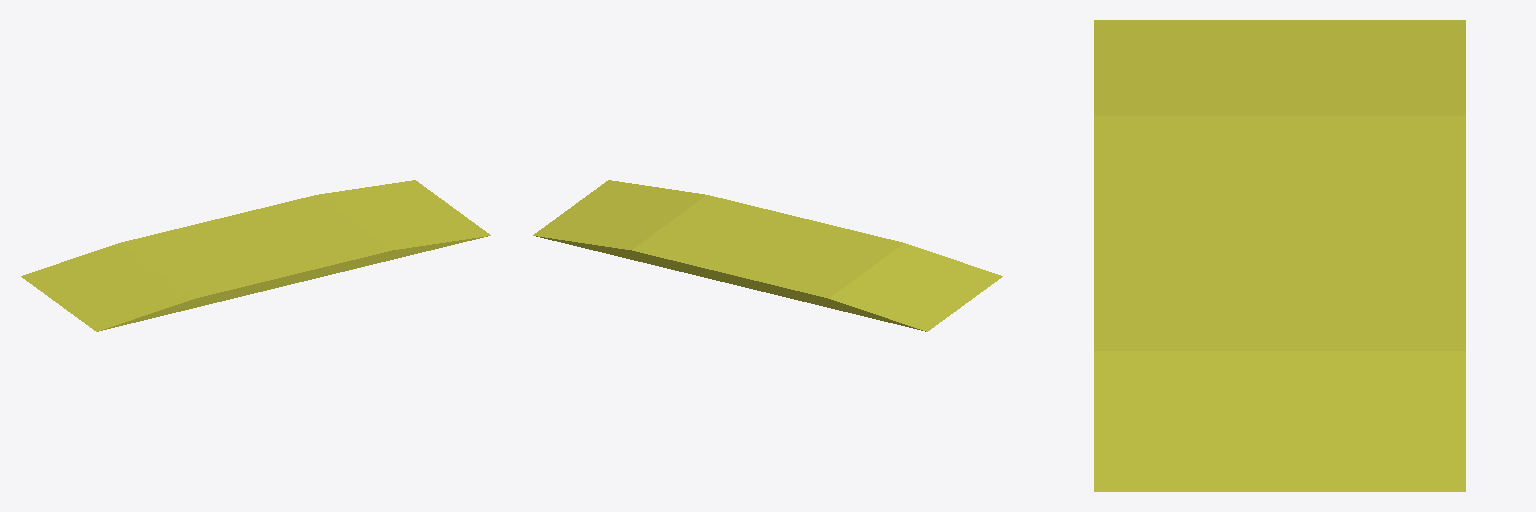
The robot description file, URDF, robot "Part1":
<?xml version="1.0" encoding="utf-8"?>
<!-- This URDF was automatically created by SolidWorks to URDF Exporter! Originally created by [author] ([email redacted]) 
     Commit Version: 1.5.1-0-g916b5db  Build Version: 1.5.7152.31018
     For more information, please see http://wiki.ros.org/sw_urdf_exporter -->
<robot
  name="Part1">
  <link
    name="ramp_5">
    <inertial>
      <origin
        xyz="7.5814E-16 7.67928484115444E-17 -0.005"
        rpy="0 0 0" />
      <mass
        value="500" />
      <inertia
        ixx="180.35"
        ixy="-6.0423E-14"
        ixz="4.7564E-15"
        iyy="450.35"
        iyz="1.08287265732095E-14"
        izz="630" />
    </inertial>
    <visual>
      <origin
        xyz="-1.2 -0.5 0"
        rpy="1.5707963267949 0 0" />
      <geometry>
        <mesh
          filename="package://ramp_5/meshes/ramp_5.STL" scale="1.5 1.5 1" />
      </geometry>
      <material
        name="">
        <color
          rgba="0.8 0.8 0.3 1" />
        <texture
          filename="package://ramp_5/textures/" />
      </material>
    </visual>
    <collision>
      <origin
        xyz="1.2 -0.5 0"
        rpy="1.5707963267949 0 0" />
      <geometry>
        <mesh
          filename="package://ramp_5/meshes/ramp_5.STL"  scale="1.5 1.5 1"/>
      </geometry>
    </collision>
  </link>
</robot>

--- Facts derived from the render (not from the file) ---
The picture shows the robot from 3 angles, left to right: view 1: azimuth 30°, elevation 25°; view 2: azimuth 150°, elevation 25°; view 3: azimuth 270°, elevation 25°; orthographic projection.
Model Part1 with 1 links and 0 joints (none), rooted at ramp_5, posed all joints at 0.
Visible links, largest first — view 1: ramp_5; view 2: ramp_5; view 3: ramp_5.
Boxes of the visible links, <box> form: ramp_5: <box>21,180,490,331</box>; ramp_5: <box>533,180,1002,331</box>; ramp_5: <box>1094,20,1465,491</box>.
Bounding box of the posed robot: 6 × 2 × 0.135 m (x, y, z).
1 mesh visuals loaded from 1 distinct referenced files (1 binary STL).